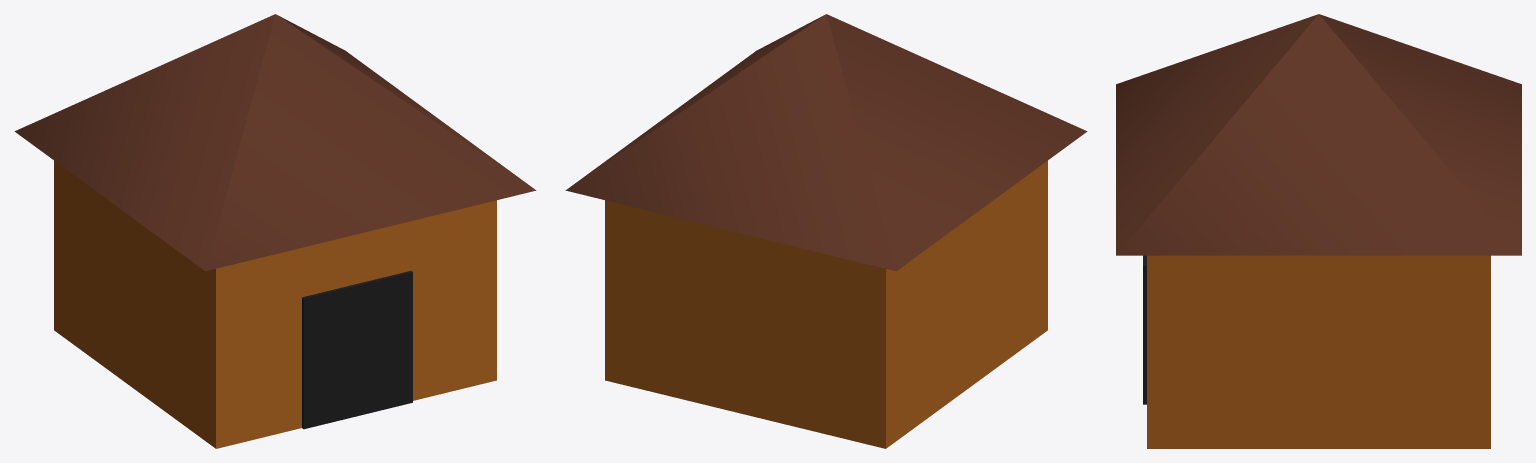
File: doghouse.glb
3 renders of one model, left to right at view 1: azimuth 30°, elevation 25°; view 2: azimuth 150°, elevation 25°; view 3: azimuth 270°, elevation 25°, orthographic. The views are drawn at different scales.
Parts seen in each view (by area): view 1: doghouse; view 2: doghouse; view 3: doghouse.
Boxes of the visible parts, left/top/right/bottom form: doghouse: left=14, top=14, right=536, bottom=448; doghouse: left=565, top=14, right=1087, bottom=448; doghouse: left=1116, top=14, right=1521, bottom=448.
Bounding box in the file's own units: 1.06 × 1.05 × 1.06.
